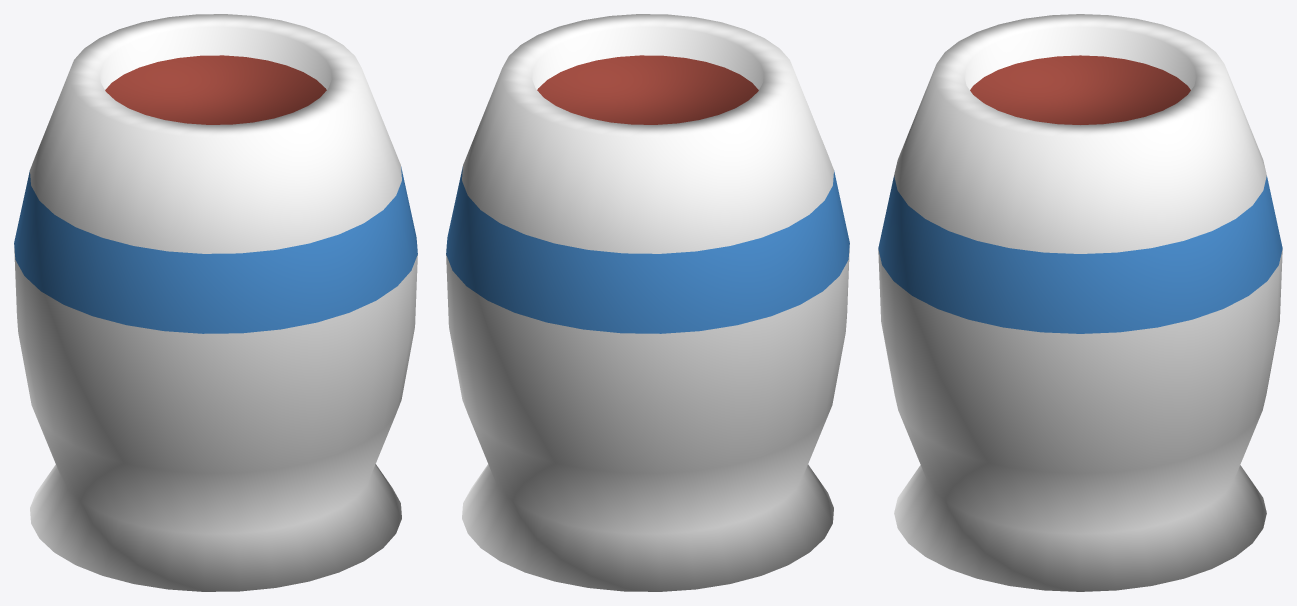
The model's file is Pot_3.fbx.
3 renders of one model, left to right at view 1: azimuth 30°, elevation 25°; view 2: azimuth 150°, elevation 25°; view 3: azimuth 270°, elevation 25°, orthographic.
Visible parts, largest first — view 1: Cylinder; view 2: Cylinder; view 3: Cylinder.
Boxes of the visible parts, x1,y1,x2,y2 form: Cylinder: (14, 14, 417, 591); Cylinder: (446, 14, 849, 591); Cylinder: (878, 14, 1282, 591).
Size of the model in its own units: 25.56 by 30.48 by 25.56.
Materials: 1 (1 with a texture image).
